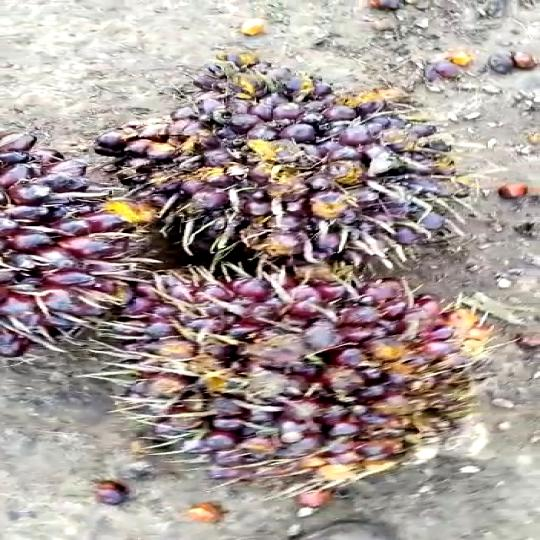kurang masak: (70, 268, 492, 478), (109, 66, 458, 267)
